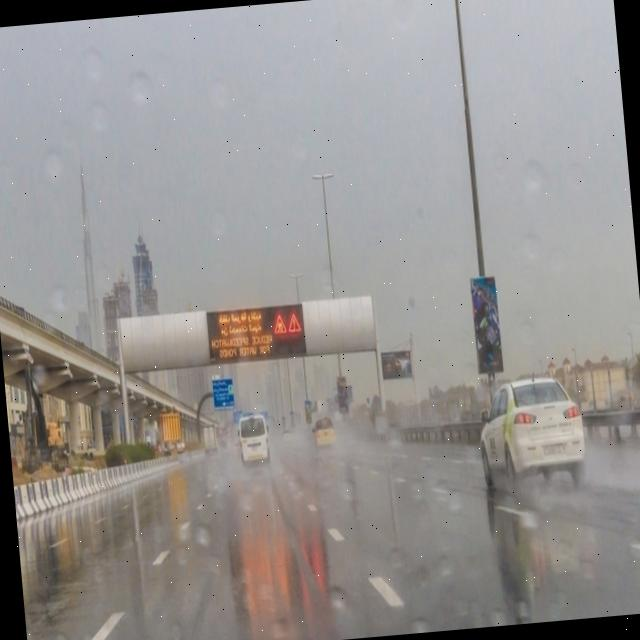bus: (202, 423, 220, 455)
car: (472, 372, 586, 488), (234, 413, 272, 470), (313, 416, 336, 444)
